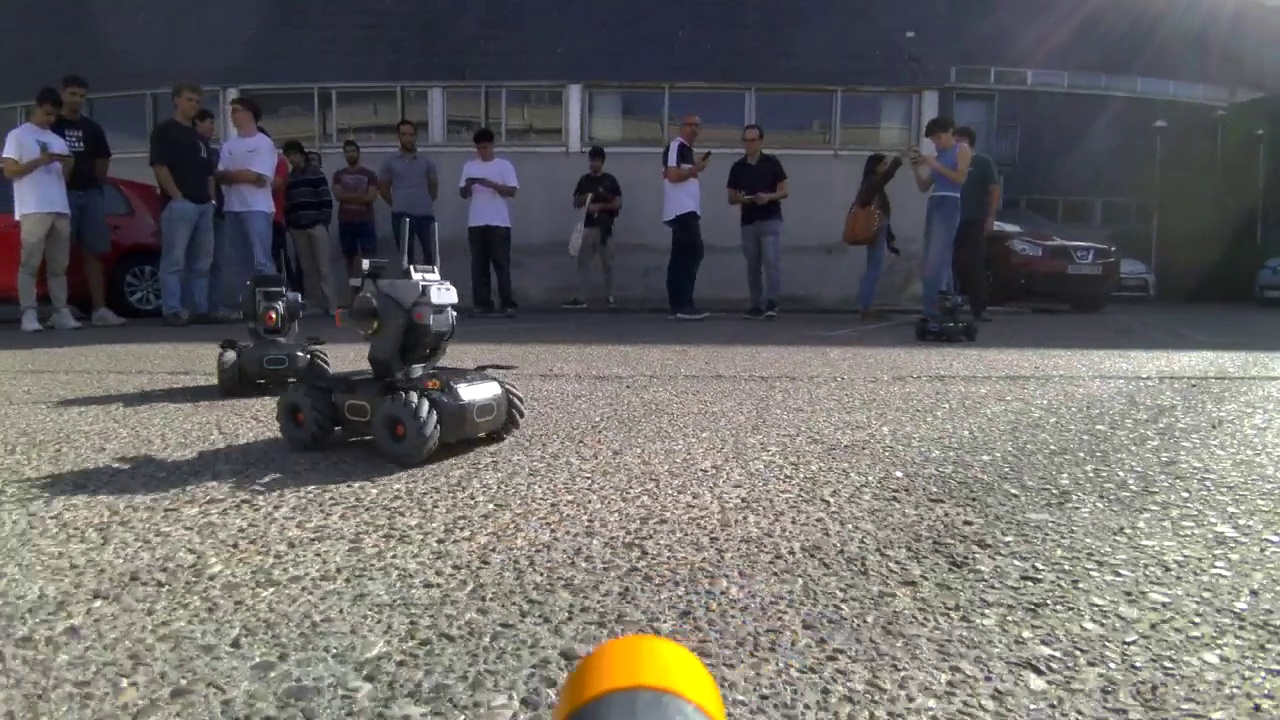robot: (293, 247, 524, 461), (216, 270, 328, 384)
